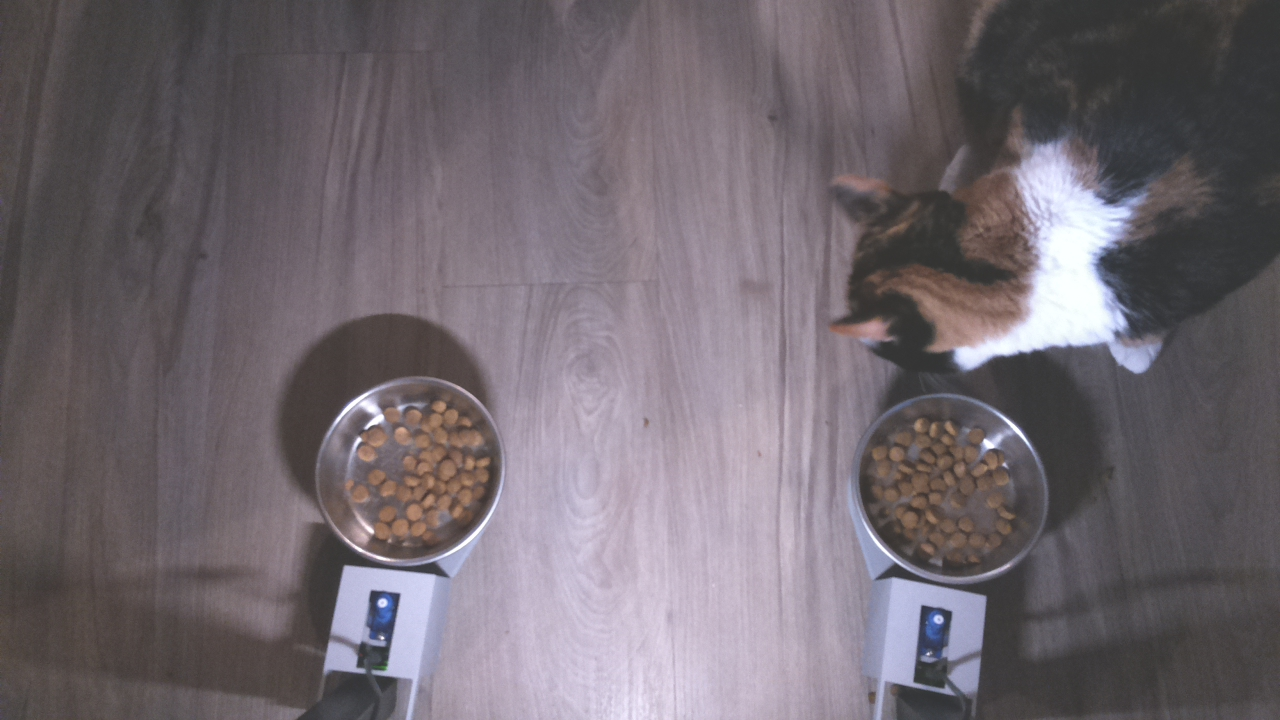bella: (819, 157, 1021, 386)
open_bowl: (848, 386, 1047, 587), (314, 372, 508, 571)
